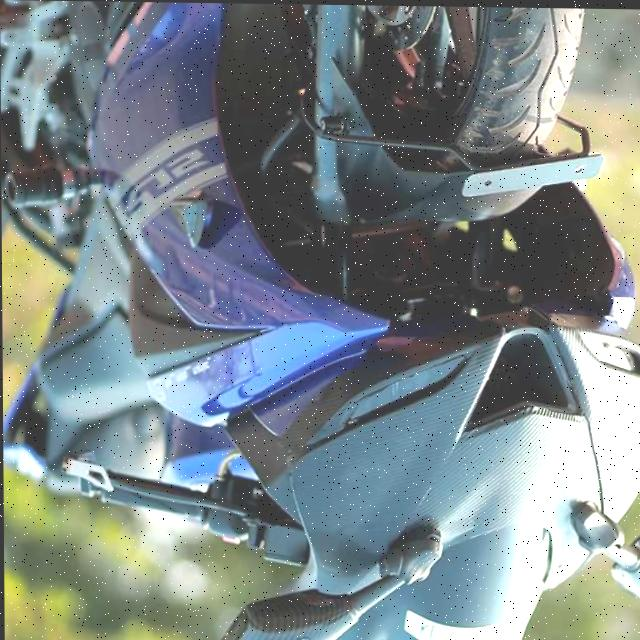plate: (398, 612, 529, 640)
